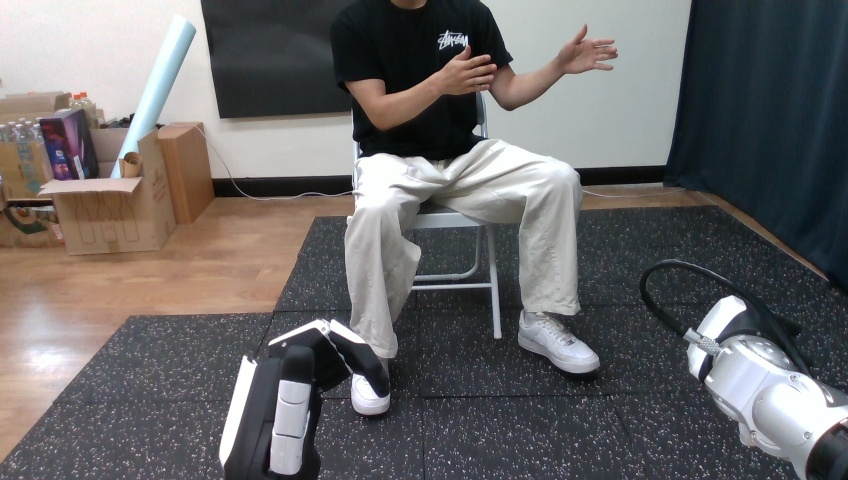left robot hand: (640, 259, 847, 479), (219, 319, 389, 479), (429, 45, 496, 94), (555, 24, 617, 74)
